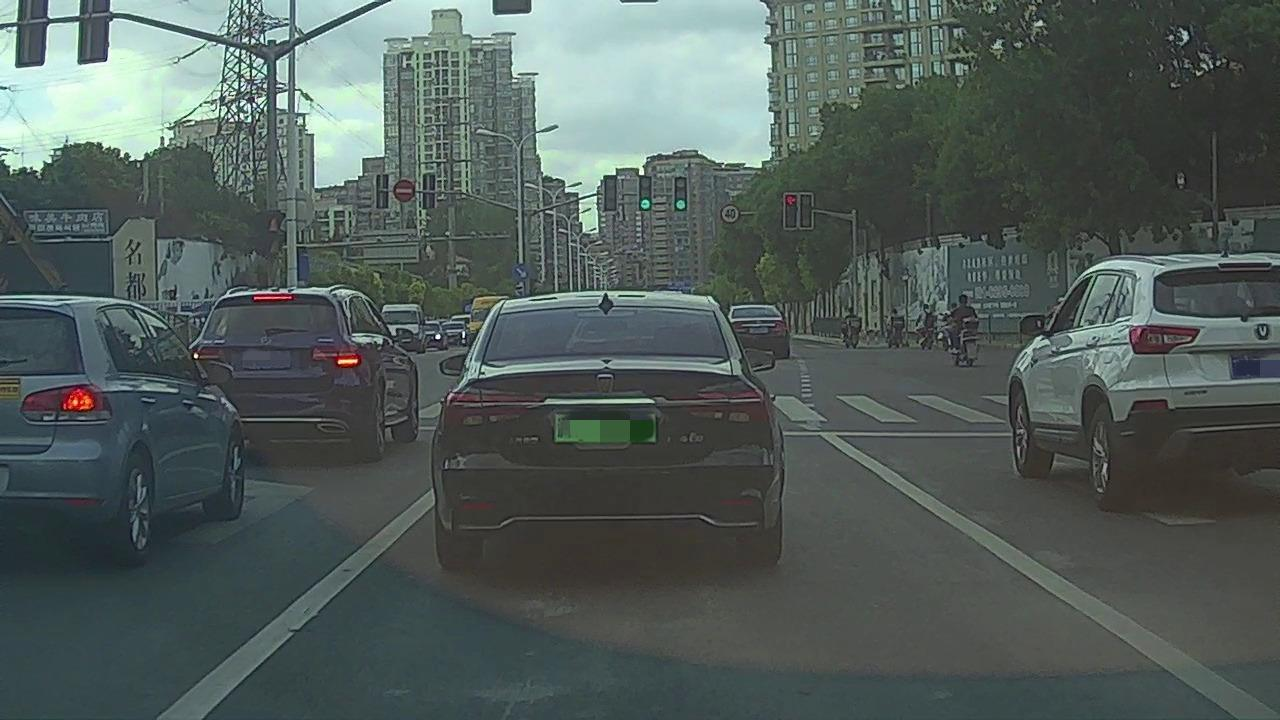traffic_light: (784, 193, 799, 228), (675, 176, 688, 212), (605, 176, 617, 212), (639, 177, 652, 210), (800, 193, 811, 228)
